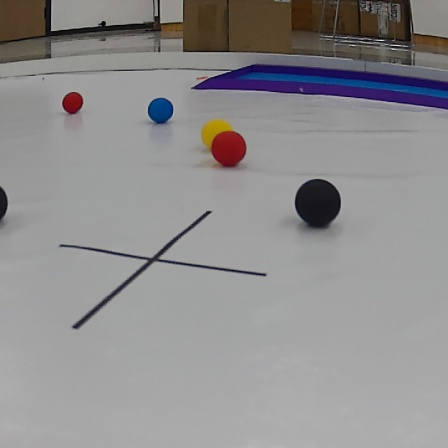black: (296, 177, 343, 226)
blue: (143, 97, 173, 123)
blue_aim: (193, 59, 448, 101)
red: (212, 131, 246, 164), (57, 89, 86, 114)
yellow: (198, 117, 231, 145)
